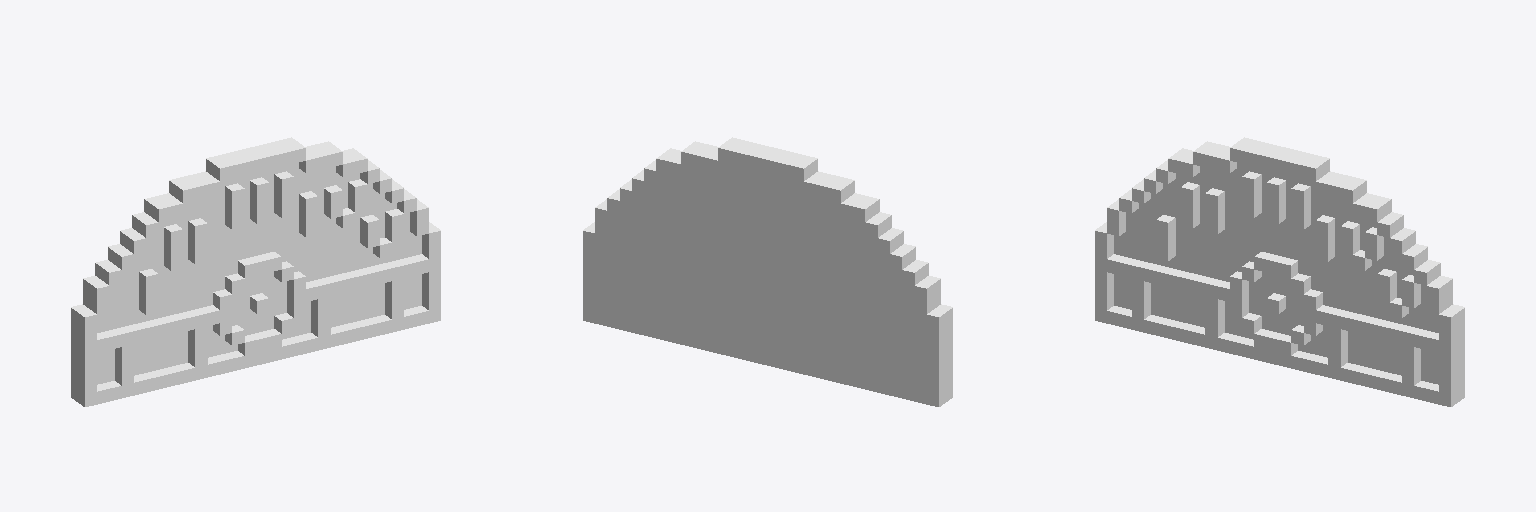
File: lift_panel.obj
3 views of the same model, side by side, from view 1: azimuth 30°, elevation 25°; view 2: azimuth 150°, elevation 25°; view 3: azimuth 330°, elevation 25° (orthographic).
Visible parts, largest first — view 1: object 1; view 2: object 1; view 3: object 1.
Boxes of the visible parts, x1,y1,x2,y2 form: object 1: [71, 137, 440, 406]; object 1: [583, 137, 952, 406]; object 1: [1095, 137, 1464, 406].
Size of the model in its own units: 2.9 by 1.6 by 0.2.